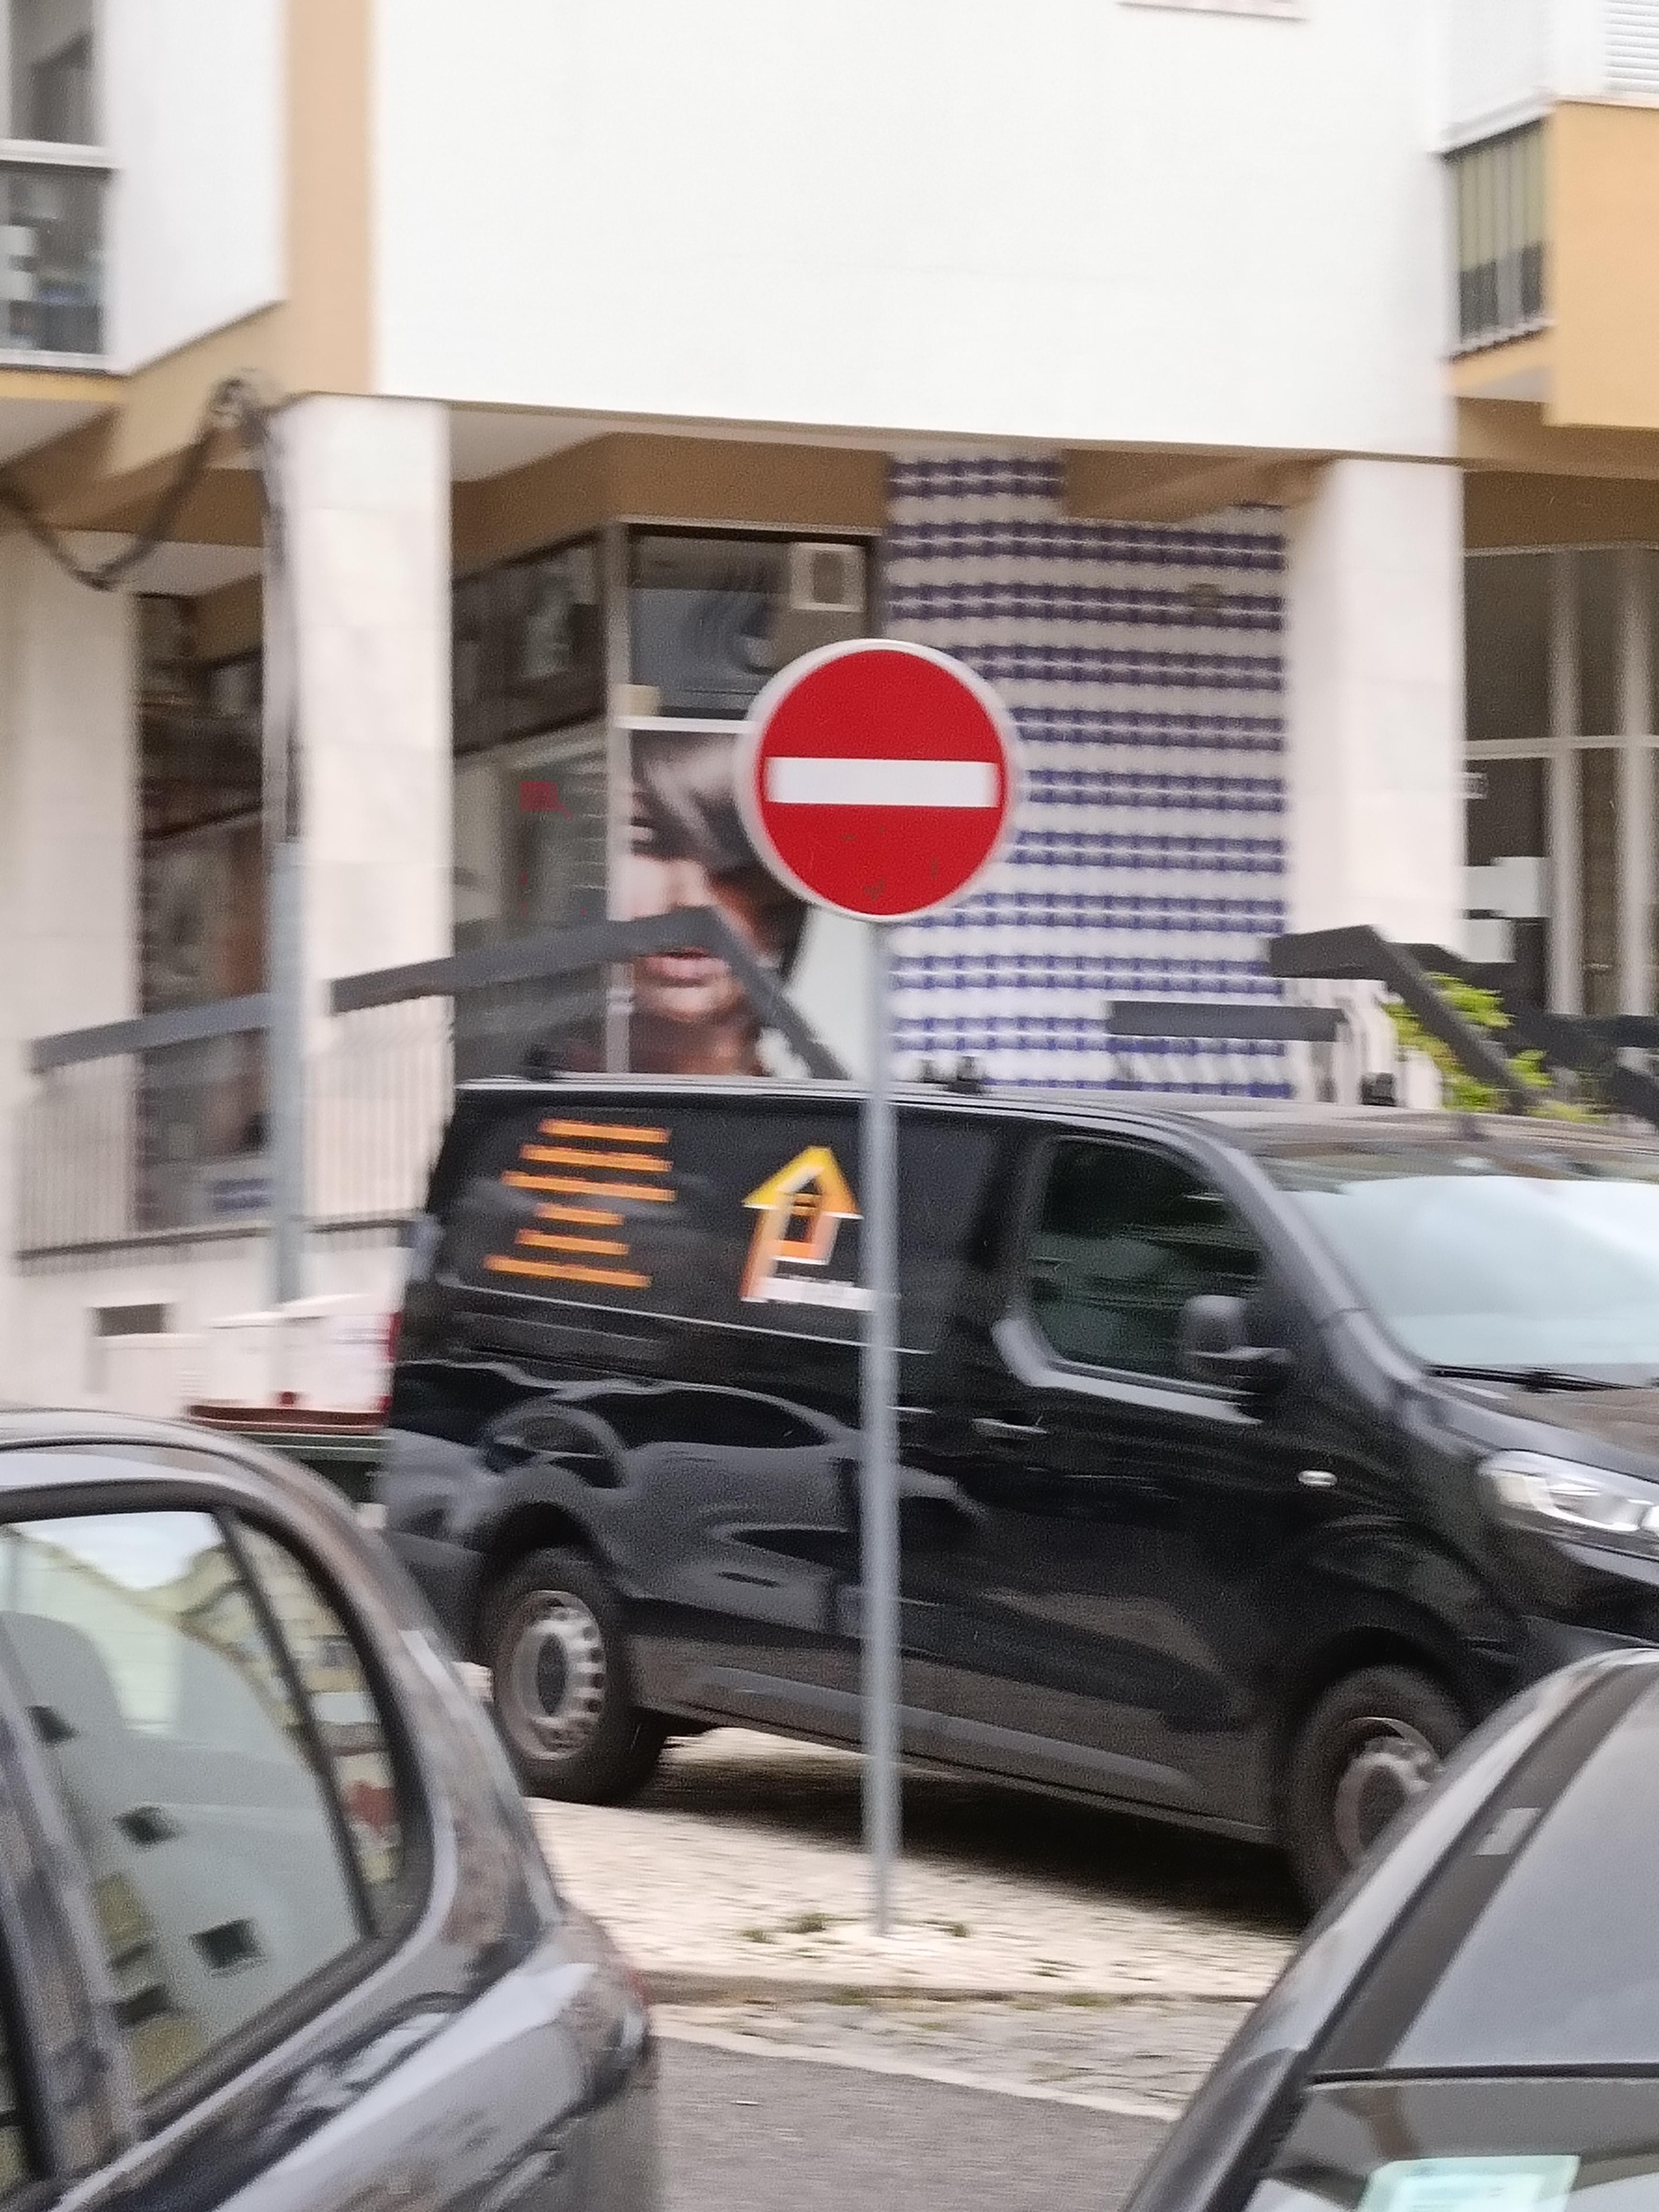Sentido proibido: (688, 622, 1066, 956)
